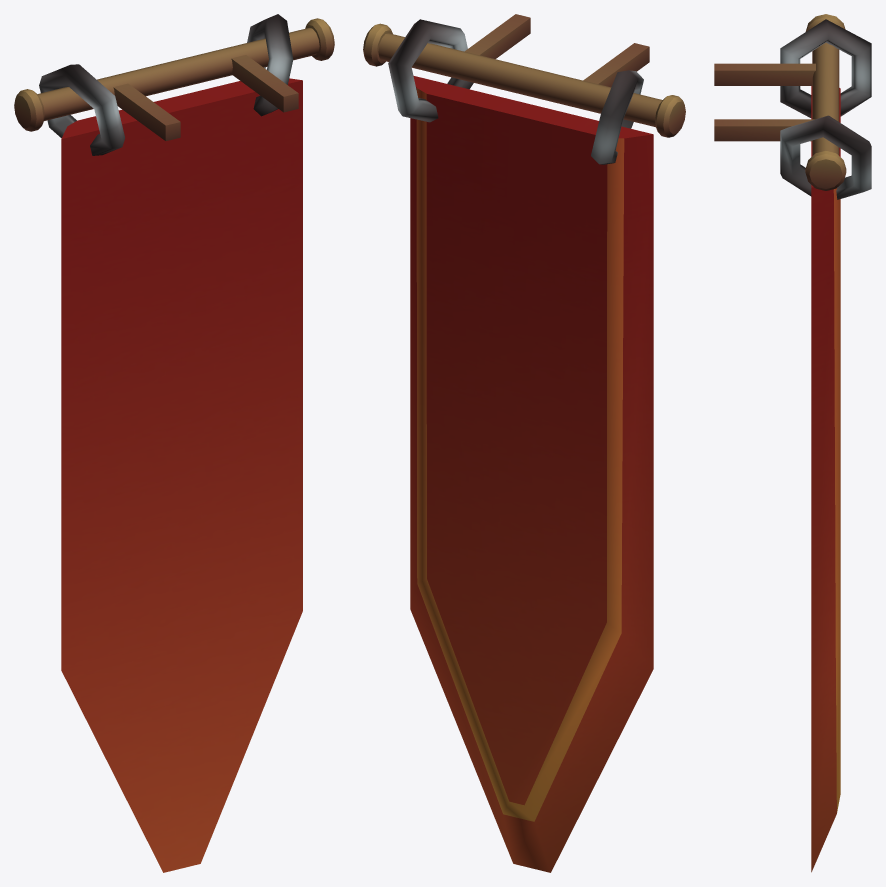
The model's file is SM_Prop_Banner_01.fbx.
3 views of the same model, side by side, from view 1: azimuth 30°, elevation 25°; view 2: azimuth 150°, elevation 25°; view 3: azimuth 270°, elevation 25° (orthographic). The views are drawn at different scales.
Visible parts, largest first — view 1: banner_PH; view 2: banner_PH; view 3: banner_PH.
Boxes of the visible parts, x1,y1,x2,y2 form: banner_PH: [14, 14, 334, 872]; banner_PH: [363, 14, 685, 872]; banner_PH: [714, 14, 871, 872].
Bounding box in the file's own units: 126 × 326 × 58.32.
